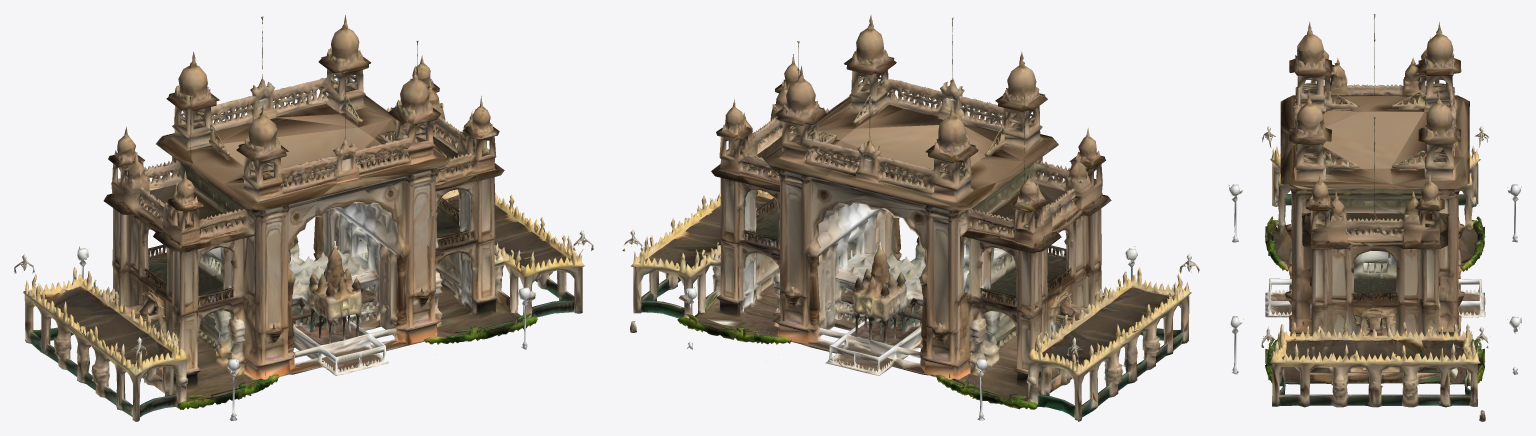
File: Gateway_of_the_Rajput.glb
The picture shows the model from 3 angles, left to right: view 1: azimuth 30°, elevation 25°; view 2: azimuth 150°, elevation 25°; view 3: azimuth 270°, elevation 25°; orthographic projection. The views are drawn at different scales.
Visible parts, largest first — view 1: Gateway_of_the_Rajput; view 2: Gateway_of_the_Rajput; view 3: Gateway_of_the_Rajput.
Part boxes in pixels (<box>): Gateway_of_the_Rajput: <box>14,15,593,421</box>; Gateway_of_the_Rajput: <box>622,15,1199,421</box>; Gateway_of_the_Rajput: <box>1228,14,1521,421</box>.
Bounding box in the file's own units: 1.9 × 1.17 × 1.13.
Materials: 1 (1 with a texture image).
